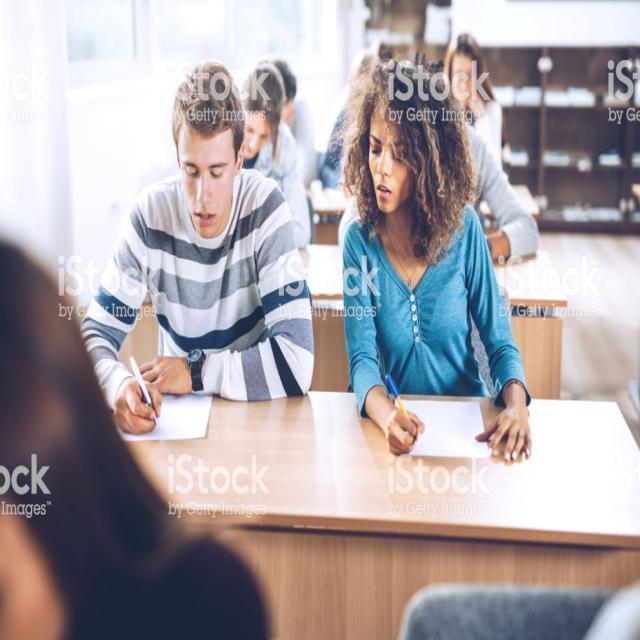cheating: (343, 53, 549, 478)
good: (75, 45, 329, 450)
